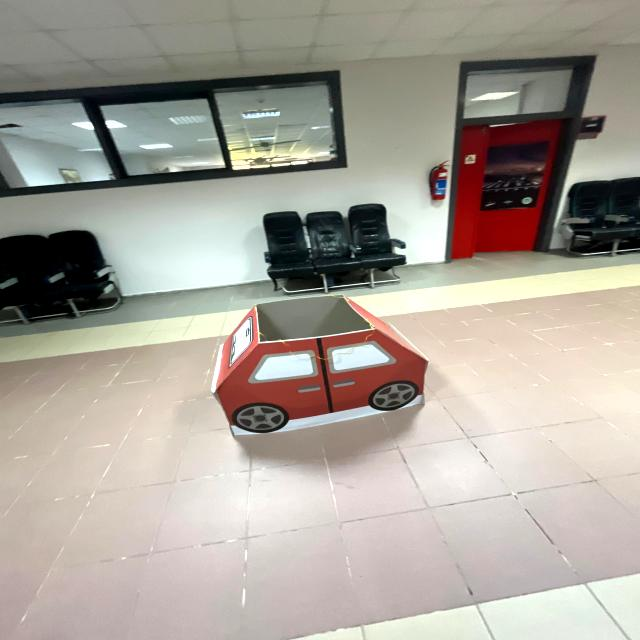red_car: (197, 288, 441, 452)
